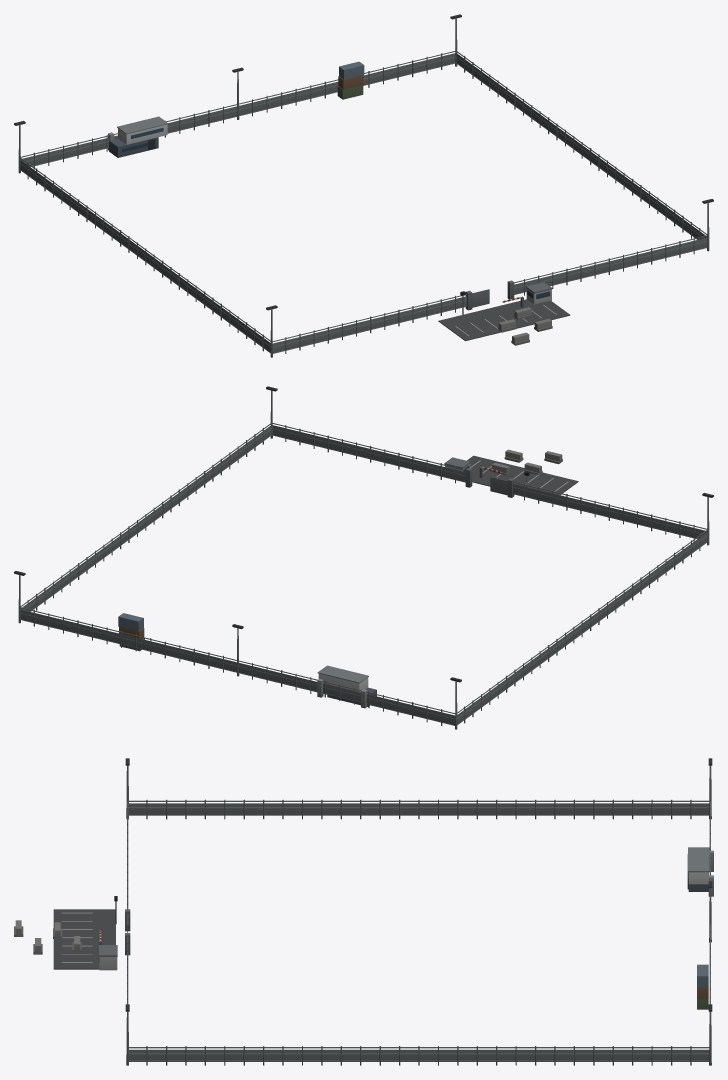
3 views of the same model, one above another, from view 1: azimuth 30°, elevation 25°; view 2: azimuth 150°, elevation 25°; view 3: azimuth 270°, elevation 25° (orthographic). The views are drawn at different scales.
Parts seen in each view (by area): view 1: mesh; view 2: mesh; view 3: mesh.
Part boxes in pixels (x1,y1,x2,y2): mesh: (14,14,713,357); mesh: (14,386,713,729); mesh: (14,758,713,1065).
Bounding box in the file's own units: 153 × 16.46 × 180.
